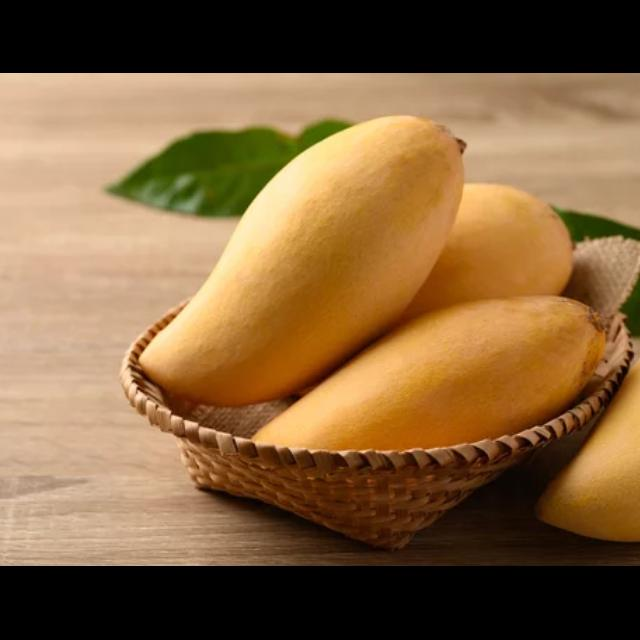mango: (136, 116, 465, 407)
